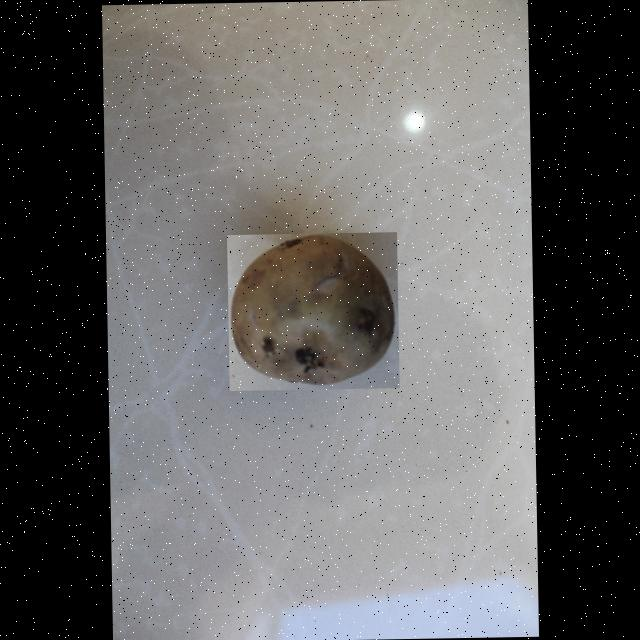Diseased-fungal potato: (226, 230, 400, 390)
